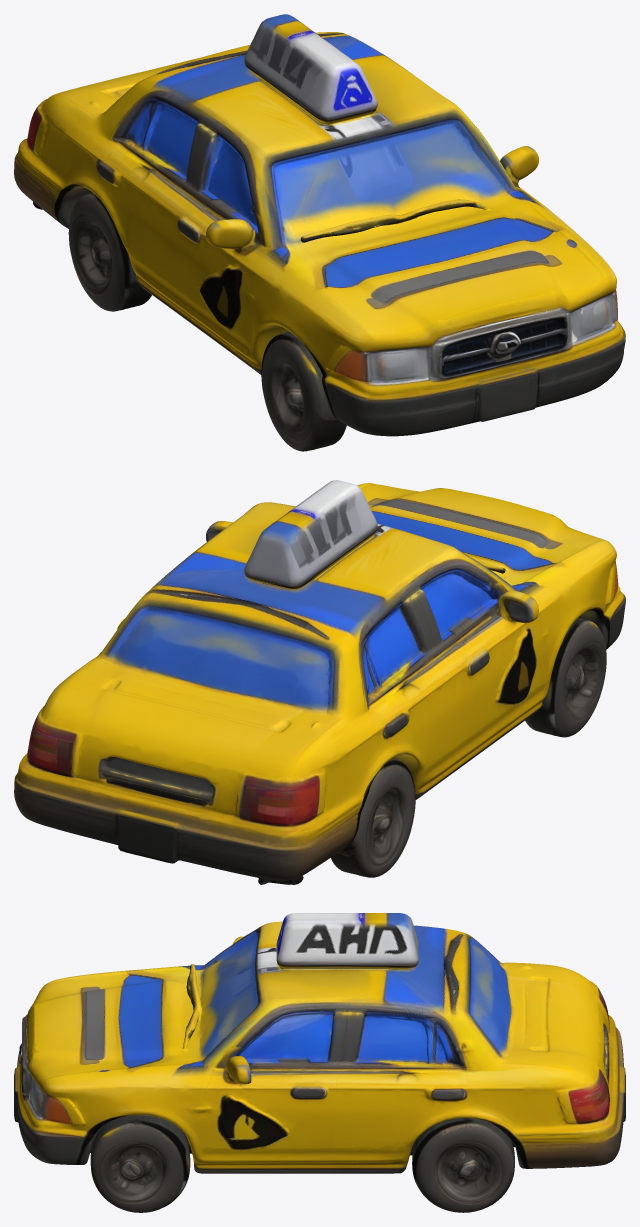
The model's file is npc-taxi.glb.
3 views of the same model, one above another, from view 1: azimuth 30°, elevation 25°; view 2: azimuth 150°, elevation 25°; view 3: azimuth 270°, elevation 25° (orthographic). The views are drawn at different scales.
Parts seen in each view (by area): view 1: tripo_node_63ca9704-5dbd-4cfe-8081-b48f27b2b864; view 2: tripo_node_63ca9704-5dbd-4cfe-8081-b48f27b2b864; view 3: tripo_node_63ca9704-5dbd-4cfe-8081-b48f27b2b864.
Boxes of the visible parts, x1,y1,x2,y2 form: tripo_node_63ca9704-5dbd-4cfe-8081-b48f27b2b864: [14, 14, 625, 451]; tripo_node_63ca9704-5dbd-4cfe-8081-b48f27b2b864: [14, 480, 625, 884]; tripo_node_63ca9704-5dbd-4cfe-8081-b48f27b2b864: [14, 913, 625, 1212].
Size of the model in its own units: 0.5215 by 0.4297 by 0.9999.
Materials: 1 (1 with a texture image).
